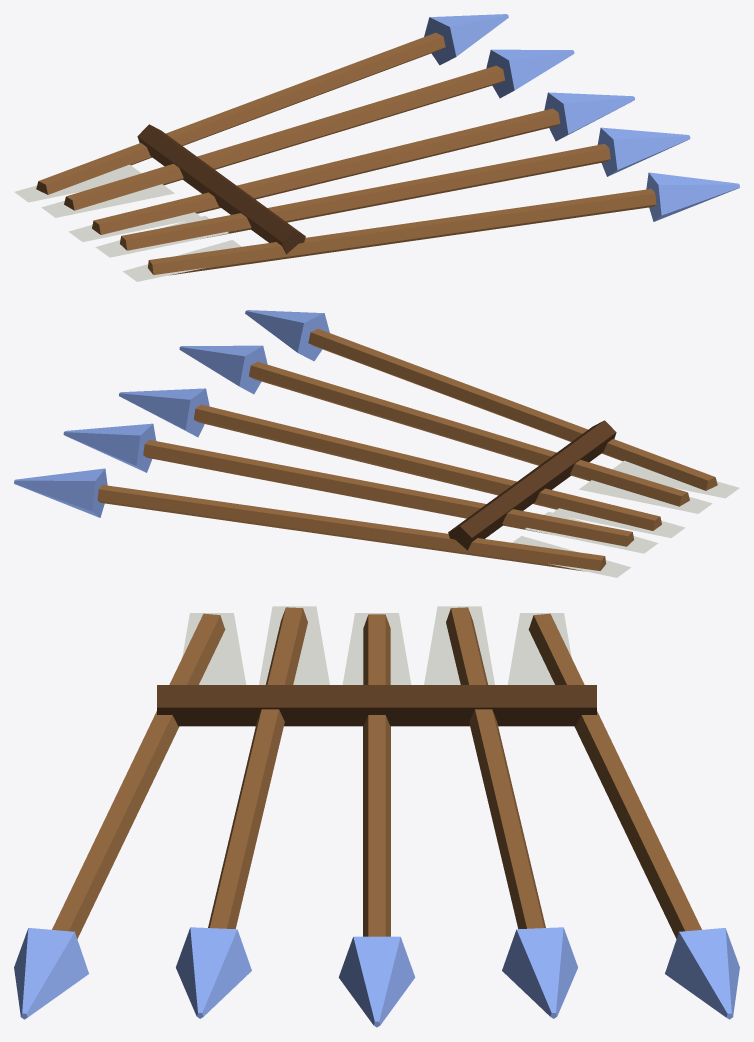
Rendered from drop_mithril_arrows.glb.
The picture shows the model from 3 angles, top to bottom: view 1: azimuth 30°, elevation 25°; view 2: azimuth 150°, elevation 25°; view 3: azimuth 270°, elevation 25°; orthographic projection. The views are drawn at different scales.
Visible parts, largest first — view 1: drop_mithril_arrows; view 2: drop_mithril_arrows; view 3: drop_mithril_arrows.
Boxes of the visible parts, left/top/right/bottom form: drop_mithril_arrows: left=14, top=14, right=739, bottom=281; drop_mithril_arrows: left=14, top=310, right=739, bottom=577; drop_mithril_arrows: left=14, top=606, right=739, bottom=1027.
Size of the model in its own units: 0.535 by 0.0438 by 0.3958.
